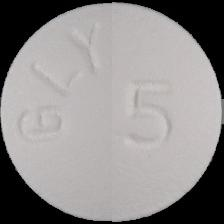0009-5012: (0, 0, 224, 224)
